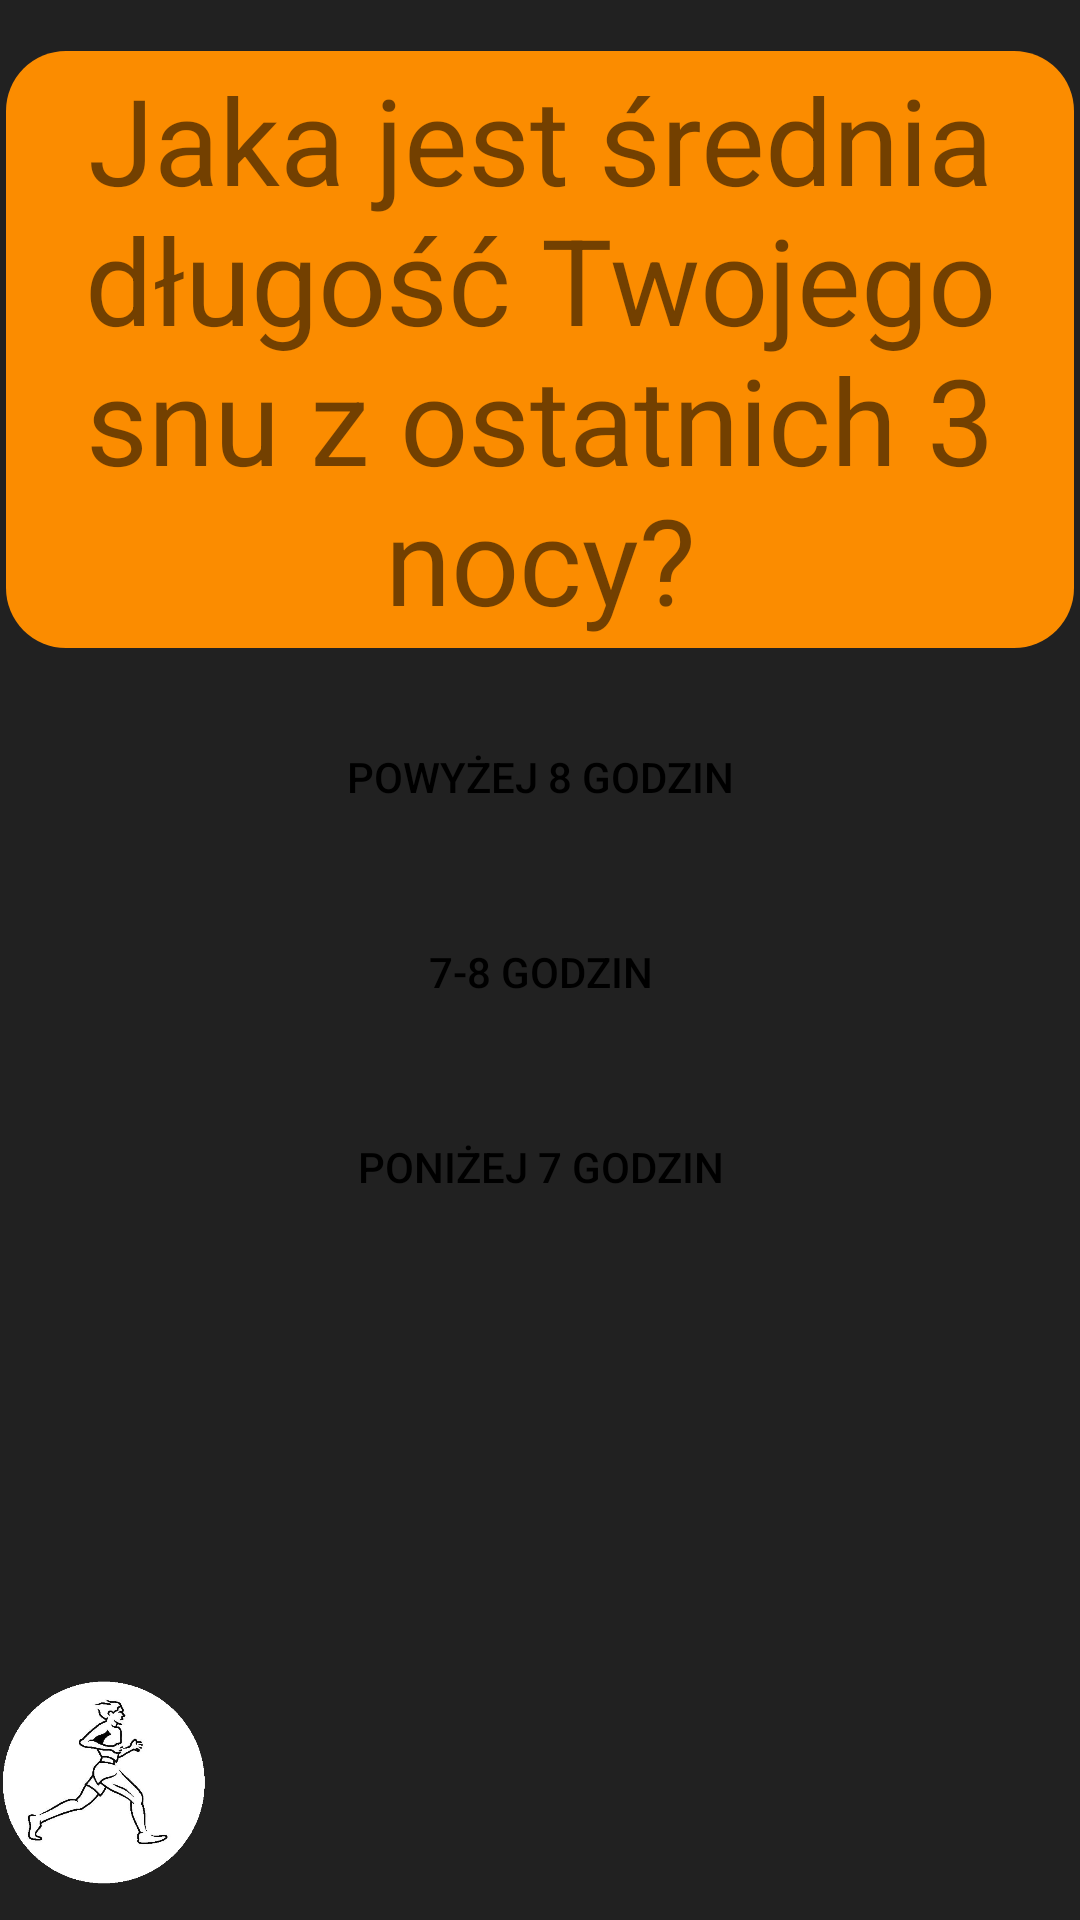

Locate icon controls on the screen. Image size 1080px×1920px, boxes as (x1, y1, x2, y2).
biegaczz: (3, 1681, 205, 1884)
